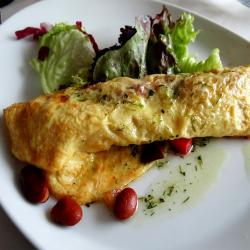omelette: (14, 72, 250, 186)
salad: (41, 27, 223, 74)
